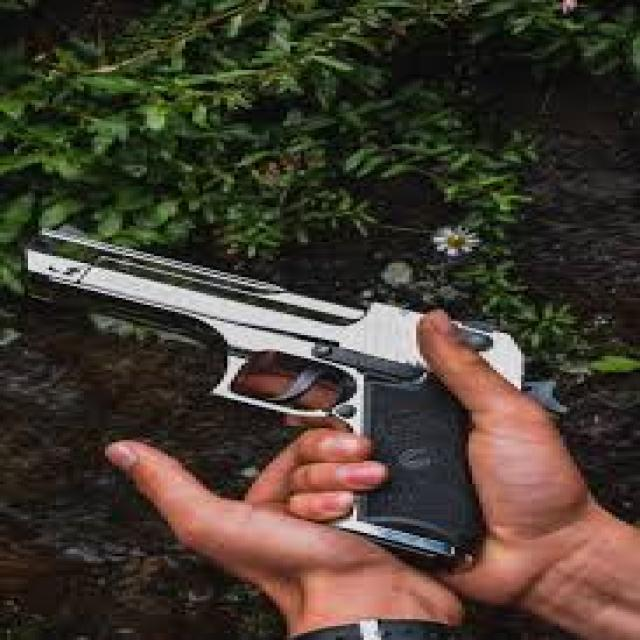gun: (11, 214, 513, 576)
